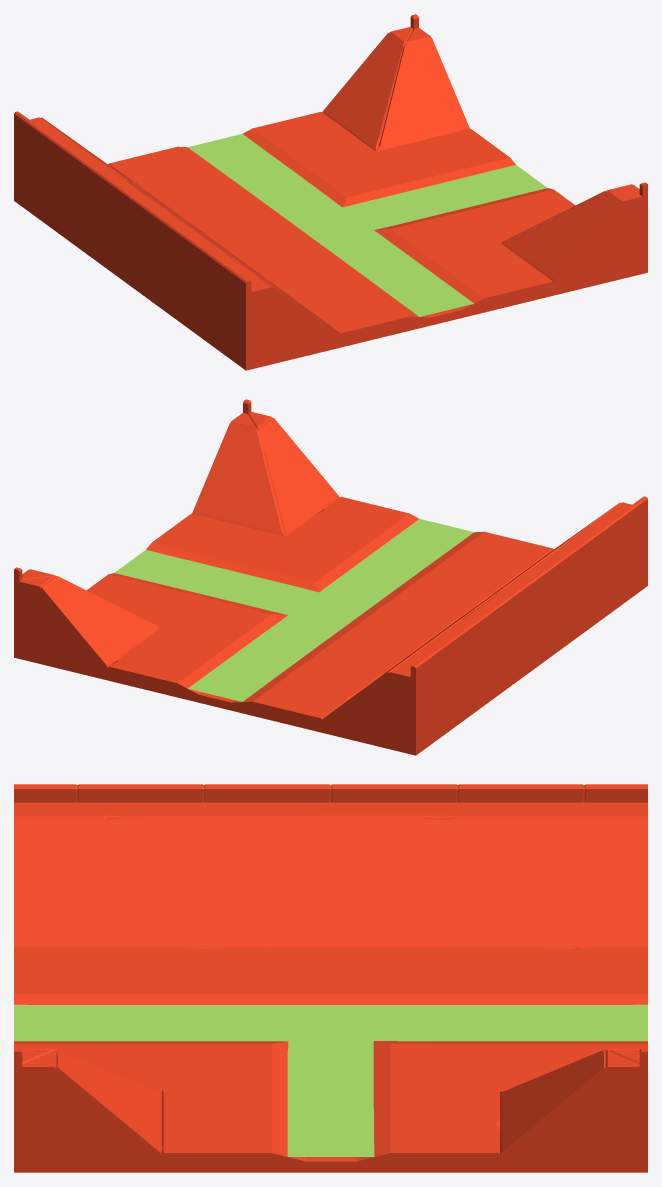
The model's file is SM_Canal_T_City.fbx.
3 renders of one model, top to bottom at view 1: azimuth 30°, elevation 25°; view 2: azimuth 150°, elevation 25°; view 3: azimuth 270°, elevation 25°, orthographic. The views are drawn at different scales.
Parts seen in each view (by area): view 1: SM_Canal_T_City; view 2: SM_Canal_T_City; view 3: SM_Canal_T_City.
Boxes of the visible parts, x1,y1,x2,y2 form: SM_Canal_T_City: (14,14,647,370); SM_Canal_T_City: (14,399,647,755); SM_Canal_T_City: (14,784,647,1172).
Bounding box in the file's own units: 30 × 6.32 × 30.
